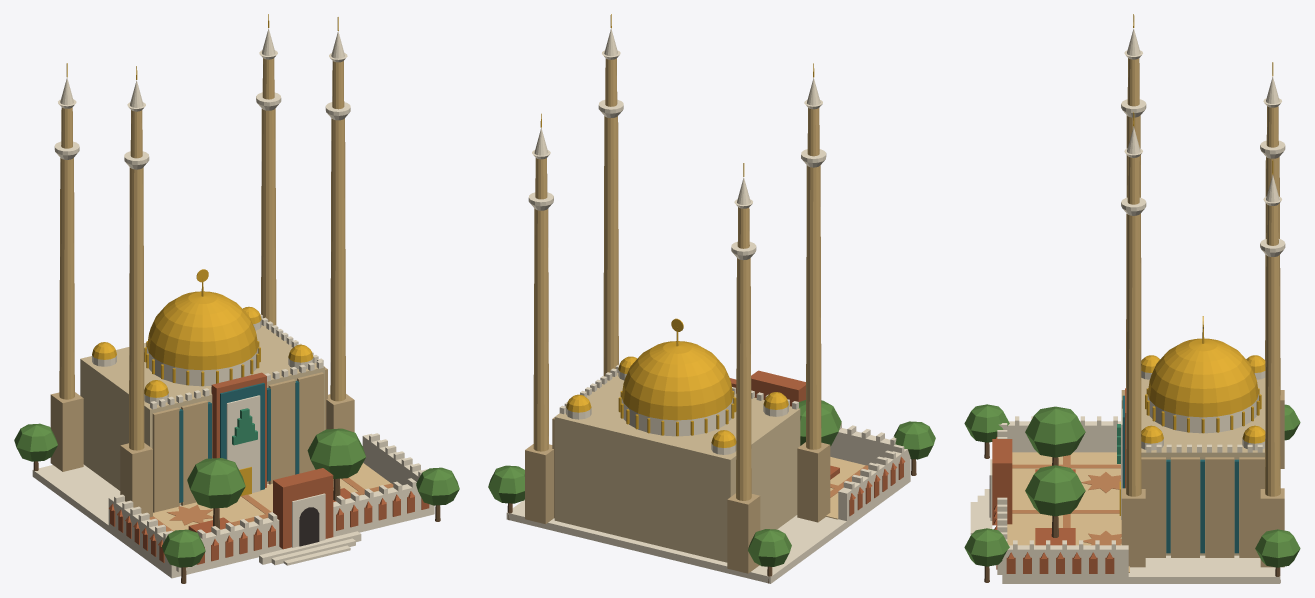
File: national-mosque.glb
The picture shows the model from 3 angles, left to right: view 1: azimuth 30°, elevation 25°; view 2: azimuth 150°, elevation 25°; view 3: azimuth 270°, elevation 25°; orthographic projection.
Visible parts, largest first — view 1: national-mosque_Mosque; view 2: national-mosque_Mosque; view 3: national-mosque_Mosque.
Boxes of the visible parts, <box> form: national-mosque_Mosque: <box>14,14,459,583</box>; national-mosque_Mosque: <box>488,14,935,583</box>; national-mosque_Mosque: <box>964,14,1300,583</box>.
Bounding box in the file's own units: 27.2 × 39.86 × 26.6.
